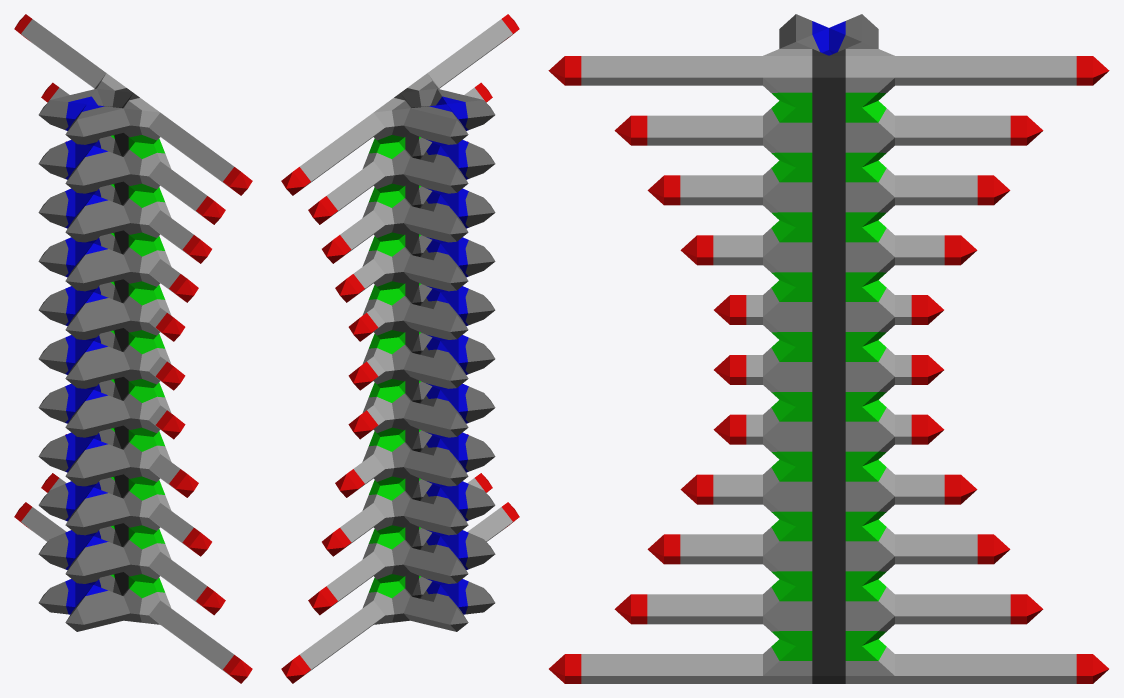
The model's file is obj_auron_bophose_spatialgate_+x.fbx.
3 renders of one model, left to right at view 1: azimuth 30°, elevation 25°; view 2: azimuth 150°, elevation 25°; view 3: azimuth 270°, elevation 25°, orthographic. The views are drawn at different scales.
Visible parts, largest first — view 1: obj_auron_bophose_spatialgate_+x; view 2: obj_auron_bophose_spatialgate_+x; view 3: obj_auron_bophose_spatialgate_+x.
Part boxes in pixels (left/top/right/bottom): obj_auron_bophose_spatialgate_+x: left=14, top=14, right=252, bottom=683; obj_auron_bophose_spatialgate_+x: left=281, top=14, right=519, bottom=683; obj_auron_bophose_spatialgate_+x: left=548, top=14, right=1109, bottom=683.
Bounding box in the file's own units: 400 × 2100 × 1700.
